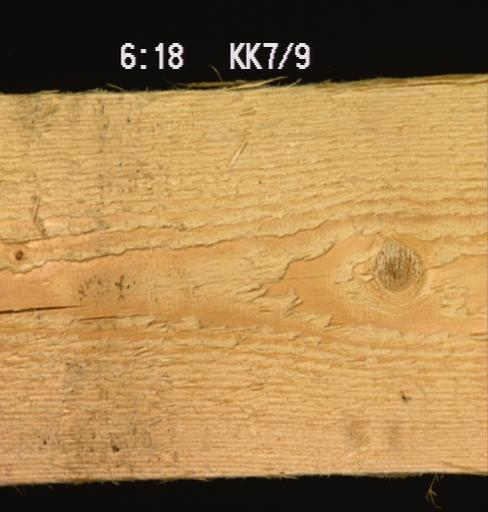small_knot: (11, 243, 26, 263)
sound_knot: (360, 235, 433, 304)
split: (139, 266, 343, 293), (0, 293, 84, 317), (75, 310, 156, 324)
